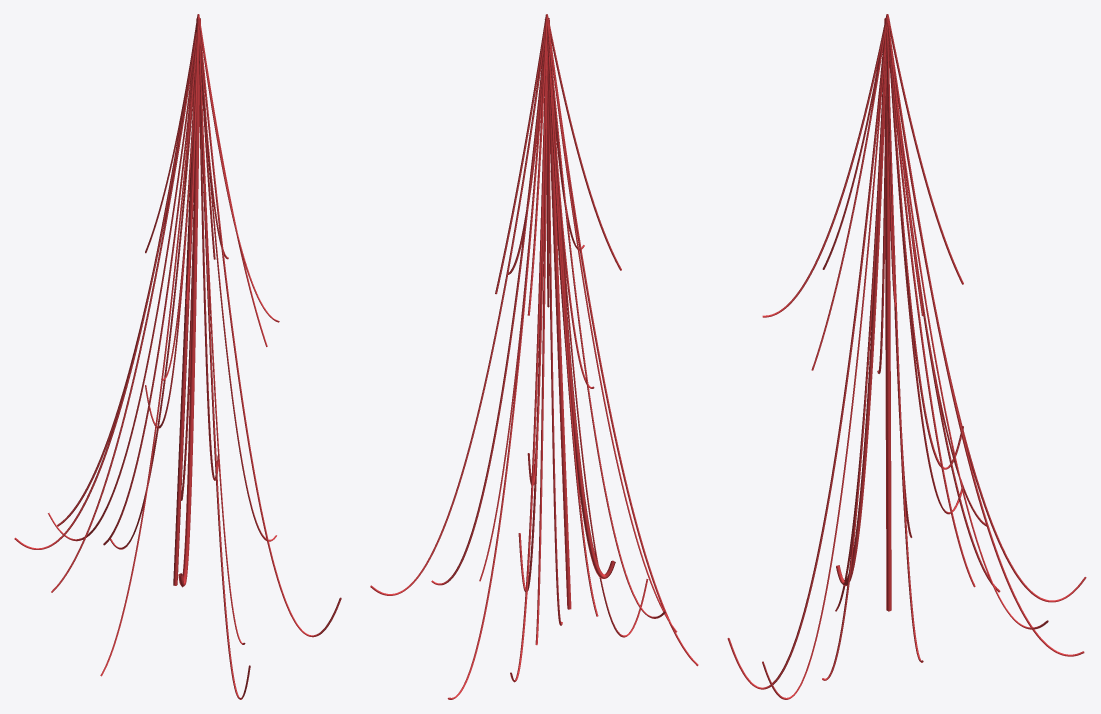
Rendered from Flesh Wires.fbx.
3 renders of one model, left to right at view 1: azimuth 30°, elevation 25°; view 2: azimuth 150°, elevation 25°; view 3: azimuth 270°, elevation 25°, orthographic. The views are drawn at different scales.
Parts seen in each view (by area): view 1: Catenary.001, Catenary, Catenary.005, Catenary.003, Catenary.007, Catenary.006, Catenary.033, Catenary.013, Catenary.008, Catenary.012, Catenary.002, Catenary.011 (+8 smaller); view 2: Catenary, Catenary.001, Catenary.013, Catenary.012, Catenary.007, Catenary.008, Catenary.014, Catenary.011, Catenary.033, Catenary.010, Catenary.002, Catenary.006 (+8 smaller); view 3: Catenary, Catenary.001, Catenary.005, Catenary.012, Catenary.002, Catenary.010, Catenary.003, Catenary.009, Catenary.011, Catenary.036, Catenary.008, Catenary.031 (+6 smaller).
Part boxes in pixels (x1,y1,x2,y2): Catenary.001: (178,18,200,587); Catenary: (173,18,200,585); Catenary.005: (199,32,250,699); Catenary.003: (200,37,341,637); Catenary.007: (100,32,196,676); Catenary.006: (51,32,196,592); Catenary.033: (14,14,197,549); Catenary.013: (48,58,193,541); Catenary.008: (103,49,195,545); Catenary.012: (110,84,193,549); Catenary.002: (201,74,245,644); Catenary.011: (199,95,218,480); Catenary: (545,19,571,609); Catenary.001: (544,18,615,578); Catenary.013: (510,33,547,682); Catenary.012: (447,44,544,699); Catenary.007: (549,30,698,666); Catenary.008: (535,51,547,645); Catenary.014: (547,31,598,616); Catenary.011: (370,32,544,595); Catenary.033: (546,14,665,618); Catenary.010: (431,50,543,585); Catenary.002: (547,91,562,625); Catenary.006: (549,30,677,632); Catenary: (884,18,891,611); Catenary.001: (836,18,888,585); Catenary.005: (727,44,883,689); Catenary.012: (890,35,1084,656); Catenary.002: (822,39,886,680); Catenary.010: (886,27,923,662); Catenary.003: (762,30,886,699); Catenary.009: (888,42,975,587); Catenary.011: (887,28,1048,629); Catenary.036: (887,15,963,469); Catenary.008: (900,143,1000,592); Catenary.031: (811,14,887,370).
Bounding box in the file's own units: 2417 × 6018 × 2862.
